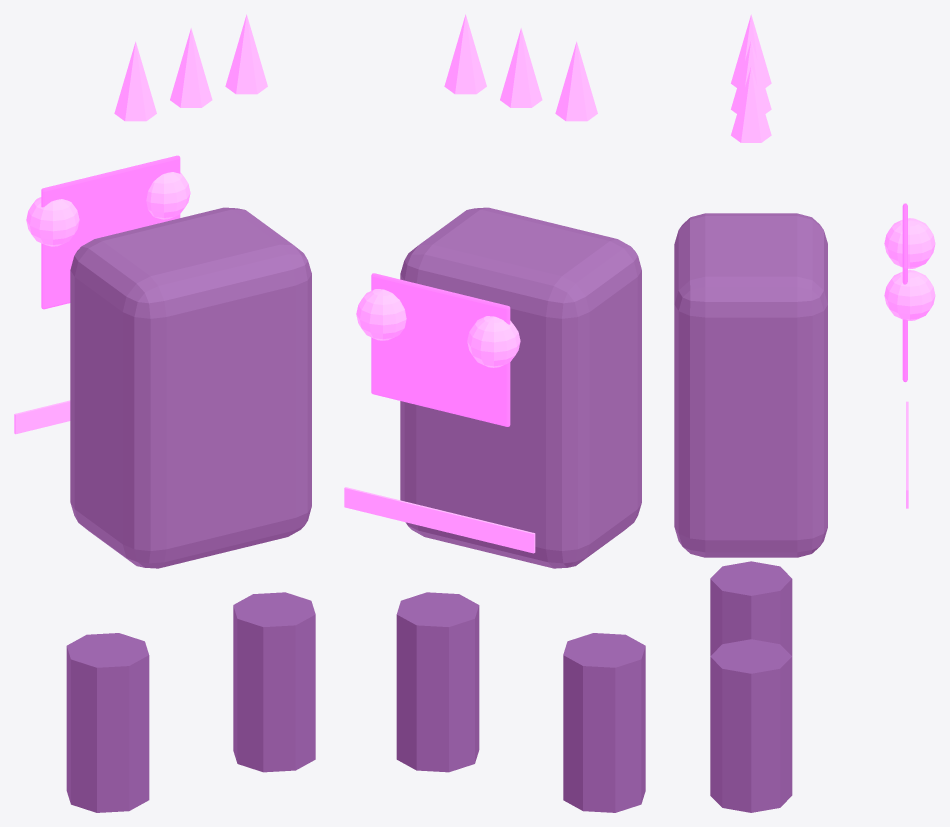
3 renders of one model, left to right at view 1: azimuth 30°, elevation 25°; view 2: azimuth 150°, elevation 25°; view 3: azimuth 270°, elevation 25°, orthographic. The views are drawn at different scales.
Visible parts, largest first — view 1: sd_v1; view 2: sd_v1; view 3: sd_v1.
Part boxes in pixels (box(x1,y1,x2,y2)): sd_v1: box(14, 14, 315, 812); sd_v1: box(344, 14, 645, 812); sd_v1: box(674, 14, 935, 812).
Bounding box in the file's own units: 0.52 × 1.55 × 0.51.
